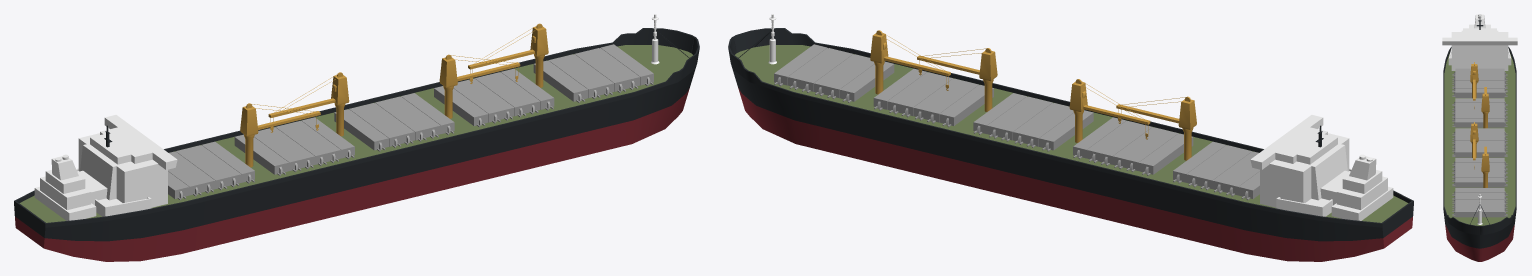
Rendered from Cargoship.fbx.
The picture shows the model from 3 angles, left to right: view 1: azimuth 30°, elevation 25°; view 2: azimuth 150°, elevation 25°; view 3: azimuth 270°, elevation 25°; orthographic projection. The views are drawn at different scales.
Parts seen in each view (by area): view 1: Ship; view 2: Ship; view 3: Ship.
Part boxes in pixels (box(x1,y1,x2,y2)): Ship: box(14, 14, 699, 261); Ship: box(728, 14, 1413, 261); Ship: box(1442, 14, 1517, 261).
Bounding box in the file's own units: 882 × 152 × 141.
